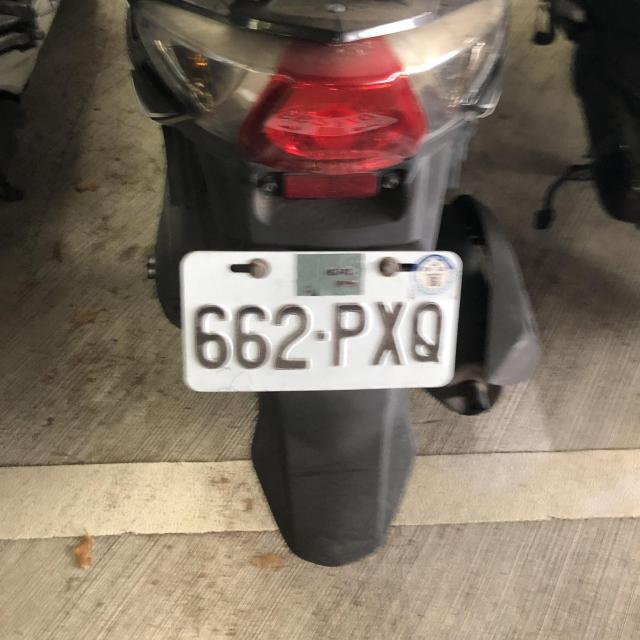W: (174, 239, 464, 397)
